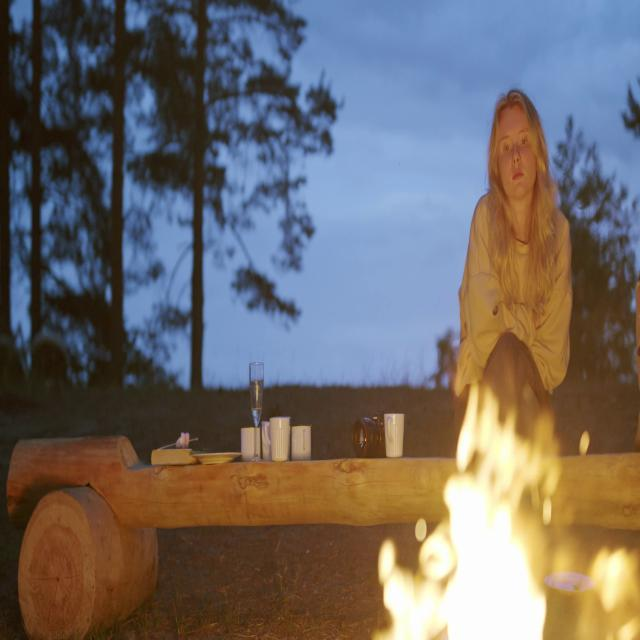Fire: (378, 382, 640, 640)
